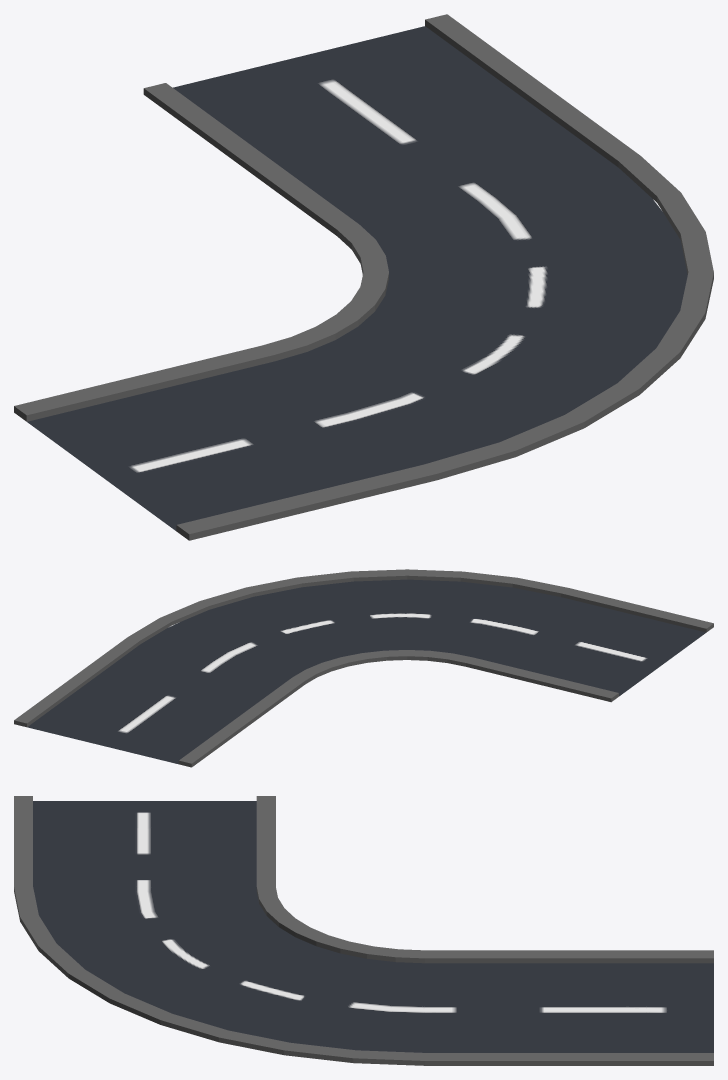
Rendered from rect-road.fbx.
3 renders of one model, top to bottom at view 1: azimuth 30°, elevation 25°; view 2: azimuth 150°, elevation 25°; view 3: azimuth 270°, elevation 25°, orthographic. The views are drawn at different scales.
Visible parts, largest first — view 1: rect-road, rect-road.side; view 2: rect-road, rect-road.side; view 3: rect-road, rect-road.side.
Part boxes in pixels (left/top/right/bottom): rect-road: left=27, top=26, right=687, bottom=530; rect-road.side: left=14, top=14, right=713, bottom=540; rect-road: left=27, top=579, right=705, bottom=764; rect-road.side: left=14, top=569, right=713, bottom=767; rect-road: left=33, top=801, right=713, bottom=1052; rect-road.side: left=14, top=796, right=713, bottom=1065.
Bounding box in the file's own units: 6907 × 59.32 × 7714.
2 materials, 1 textured.
